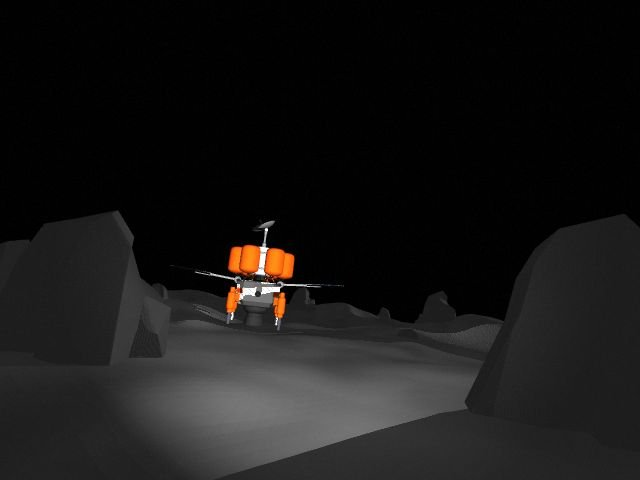homebase: (187, 217, 347, 331)
